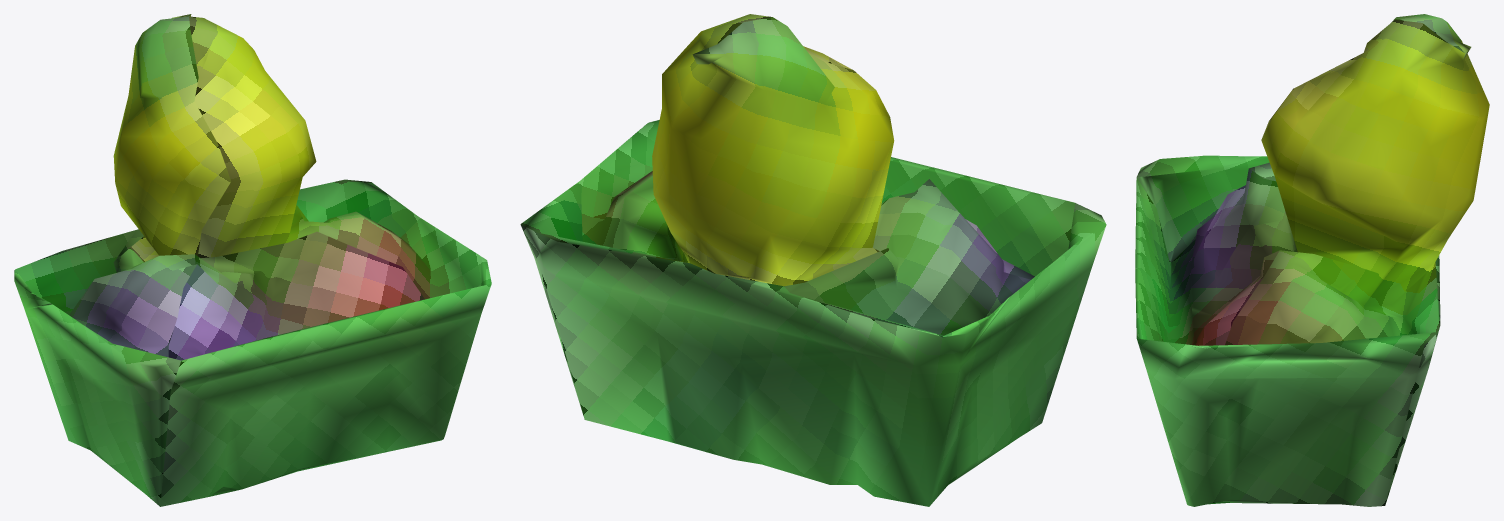
The model's file is Squirt_Strain_Fruit_Basket-low.glb.
3 renders of one model, left to right at view 1: azimuth 30°, elevation 25°; view 2: azimuth 150°, elevation 25°; view 3: azimuth 270°, elevation 25°, orthographic. The views are drawn at different scales.
Parts seen in each view (by area): view 1: Squirt_Strain_Fruit_Basket; view 2: Squirt_Strain_Fruit_Basket; view 3: Squirt_Strain_Fruit_Basket.
Boxes of the visible parts, bbox=[...] form: Squirt_Strain_Fruit_Basket: bbox=[14, 14, 491, 506]; Squirt_Strain_Fruit_Basket: bbox=[520, 14, 1106, 506]; Squirt_Strain_Fruit_Basket: bbox=[1135, 14, 1489, 506].
Bounding box in the file's own units: 0.1136 × 0.1123 × 0.0881.
1 material, 1 textured.
